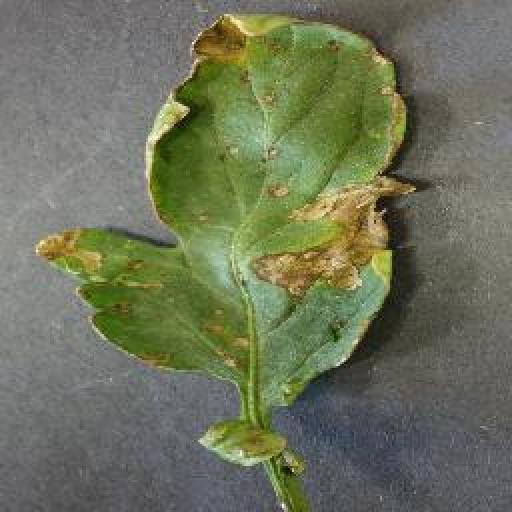Bacterial Spot: (30, 8, 414, 405)
